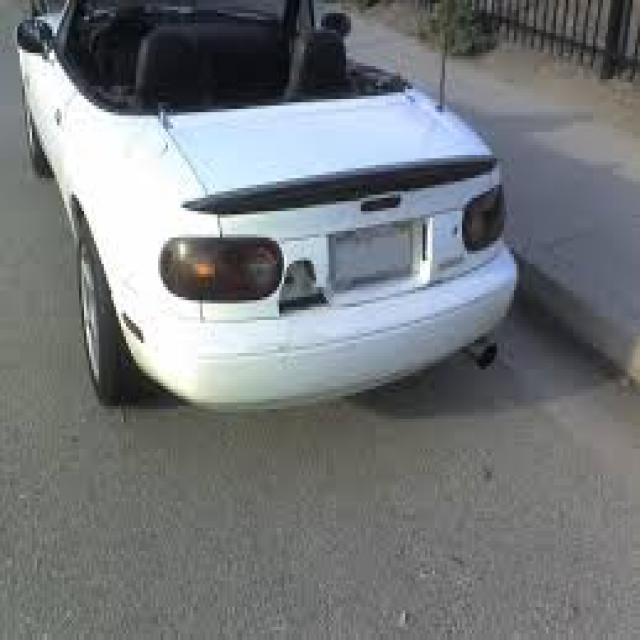minor: (277, 238, 346, 318)
